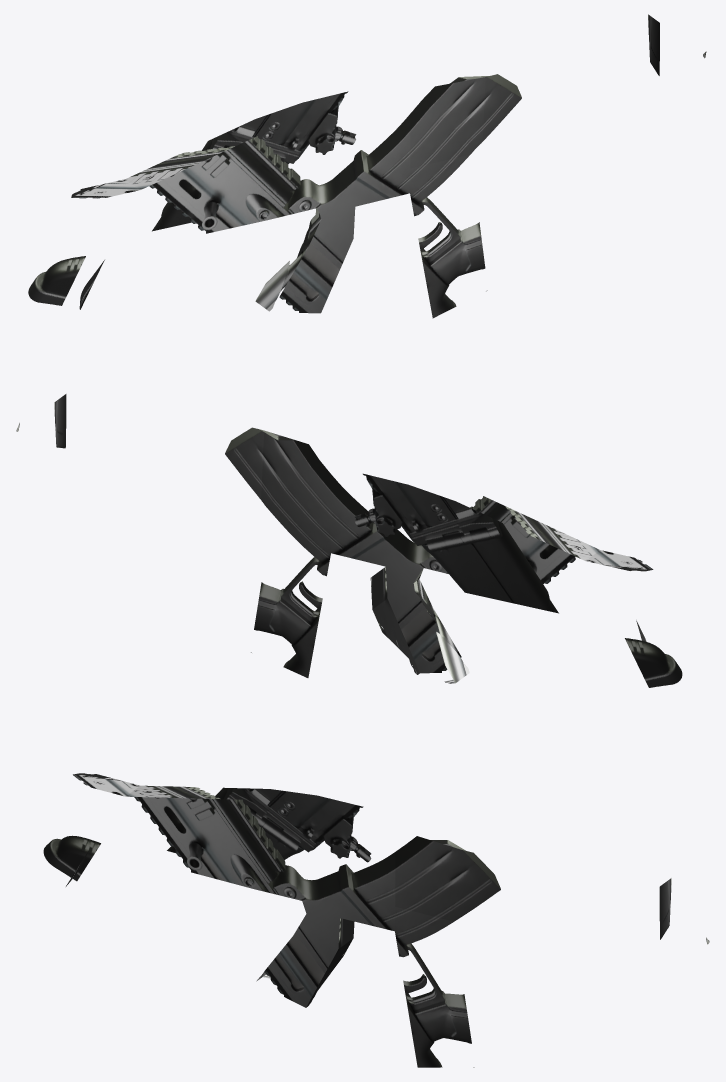
The model's file is AssaultRifle.fbx.
The picture shows the model from 3 angles, top to bottom: view 1: azimuth 30°, elevation 25°; view 2: azimuth 150°, elevation 25°; view 3: azimuth 330°, elevation 25°; orthographic projection.
Parts seen in each view (by area): view 1: Cube; view 2: Cube; view 3: Cube.
Part boxes in pixels (x1,y1,x2,y2): Cube: (28, 14, 706, 318); Cube: (16, 394, 682, 687); Cube: (43, 773, 709, 1067).
Size of the model in its own units: 72.35 by 23.52 by 4.38.
